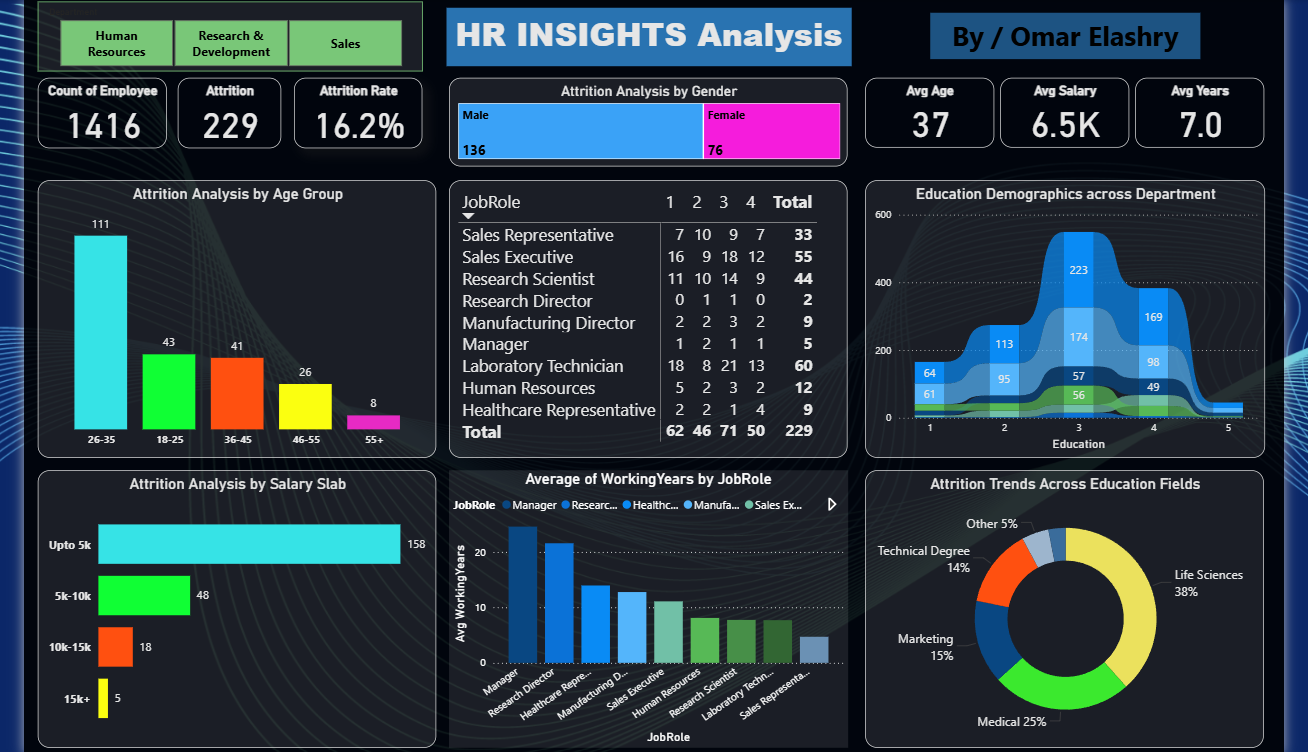

This screenshot's page, from the dashboard's own definition file:
{"tool":"powerbi","page":{"name":"Page 1","canvas":[1500,900],"ordinal":0},"visuals":[{"type":"card","title":"Count of Employee","fields":{"Values":["CountNonNull(HR_Analytics.EmpID)"]},"box":[16.8,93.6,153.7,83.8],"z":0},{"type":"card","title":"Attrition","fields":{"Values":["Sum(HR_Analytics.AttritionCount)"]},"box":[183,93.6,122.9,83.8],"z":1000},{"type":"card","title":"Attrition Rate","fields":{"Values":["HR_Analytics.AttritionRate"]},"box":[321.3,93.6,153,83.8],"z":2000},{"type":"card","title":"Avg Age","fields":{"Values":["Avg(HR_Analytics.Age)"]},"box":[1001.5,93.8,153.3,83.3],"z":3000},{"type":"card","title":"Avg Salary","fields":{"Values":["Avg(HR_Analytics.MonthlyIncome)"]},"box":[1162.2,93.8,153.3,83.3],"z":4000},{"type":"card","title":"Avg Years","fields":{"Values":["Avg(HR_Analytics.YearsAtCompany)"]},"box":[1322.9,93.8,153.3,83.3],"z":5000},{"type":"donutChart","title":"Attrition Trends Across Education Fields","fields":{"Category":["HR_Analytics.EducationField"],"Y":["Sum(HR_Analytics.AttritionCount)"]},"box":[1001.5,561,474.7,330.4],"z":6000},{"type":"columnChart","title":"Attrition Analysis by Age Group","fields":{"Category":["HR_Analytics.AgeGroup"],"Y":["Sum(HR_Analytics.AttritionCount)"]},"box":[16.4,215.8,474.7,330.4],"z":7000},{"type":"pivotTable","fields":{"Rows":["HR_Analytics.JobRole"],"Columns":["HR_Analytics.JobSatisfaction"],"Values":["Sum(HR_Analytics.AttritionCount)"]},"box":[506,215.8,474.7,330.4],"z":8000},{"type":"barChart","title":"Attrition Analysis by Salary Slab","fields":{"Category":["HR_Analytics.SalarySlab"],"Y":["Sum(HR_Analytics.AttritionCount)"]},"box":[16.4,561,474.7,330.4],"z":9000},{"type":"treemap","title":"Attrition Analysis by Gender","fields":{"Group":["HR_Analytics.Gender"],"Values":["Sum(HR_Analytics.AttritionCount)"]},"box":[506,93.8,474.7,105.7],"z":10000},{"type":"slicer","fields":{"Values":["HR_Analytics.Department"]},"box":[16.4,3,458.3,83.3],"z":11000},{"type":"textbox","box":[503,10.4,482.1,69.9],"z":12000},{"type":"ribbonChart","title":"Education Demographics across Department ","fields":{"Y":["CountNonNull(HR_Analytics.Department)"],"Category":["HR_Analytics.Education"],"Series":["HR_Analytics.EducationField"]},"box":[1001.5,215.8,476.2,330.4],"z":13000},{"type":"columnChart","title":"Average of WorkingYears by JobRole","fields":{"Y":["Avg(HR_Analytics.TotalWorkingYears)"],"Category":["HR_Analytics.JobRole"],"Series":["HR_Analytics.JobRole"]},"box":[506,561,475,330],"z":14000},{"type":"textbox","box":[1078.9,16.4,321.4,55.1],"z":14001}]}

Visuals, with their boxes in screenshot pixels (x1, y1, x2, y2):
"Count of Employee" card: x1=35 y1=83 x2=166 y2=155
"Attrition" card: x1=177 y1=83 x2=282 y2=155
"Attrition Rate" card: x1=295 y1=83 x2=426 y2=155
"Avg Age" card: x1=877 y1=84 x2=1008 y2=155
"Avg Salary" card: x1=1014 y1=84 x2=1145 y2=155
"Avg Years" card: x1=1152 y1=84 x2=1283 y2=155
"Attrition Trends Across Education Fields" donutChart: x1=877 y1=483 x2=1283 y2=751
"Attrition Analysis by Age Group" columnChart: x1=34 y1=188 x2=440 y2=471
pivotTable - HR_Analytics.JobRole x HR_Analytics.JobSatisfaction: x1=453 y1=188 x2=859 y2=471
"Attrition Analysis by Salary Slab" barChart: x1=34 y1=483 x2=440 y2=751
"Attrition Analysis by Gender" treemap: x1=453 y1=84 x2=859 y2=174
slicer - HR_Analytics.Department: x1=34 y1=6 x2=426 y2=77
textbox: x1=451 y1=12 x2=863 y2=72
"Education Demographics across Department " ribbonChart: x1=877 y1=188 x2=1284 y2=471
"Average of WorkingYears by JobRole" columnChart: x1=453 y1=483 x2=859 y2=751
textbox: x1=943 y1=17 x2=1218 y2=65
